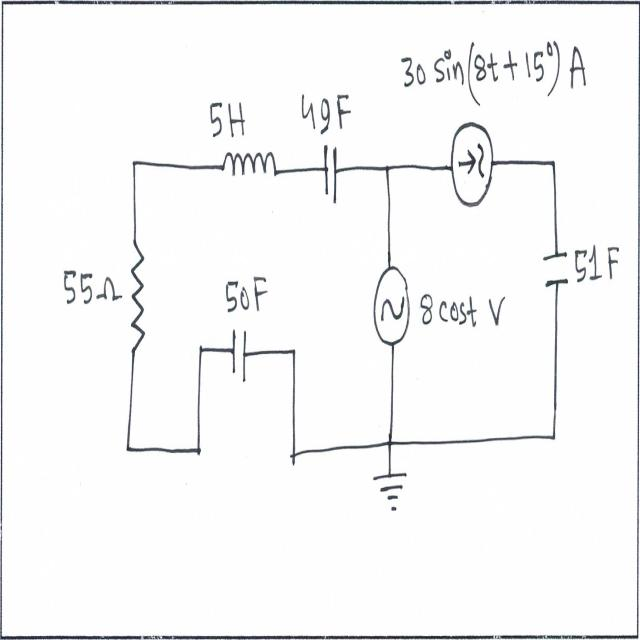capacitor: (540, 242, 572, 297), (228, 320, 250, 390), (320, 143, 342, 210)
current_source: (446, 116, 493, 208), (371, 262, 413, 350)
ground: (369, 460, 414, 516)
inductor: (220, 137, 279, 194)
resistor: (128, 236, 151, 354)
